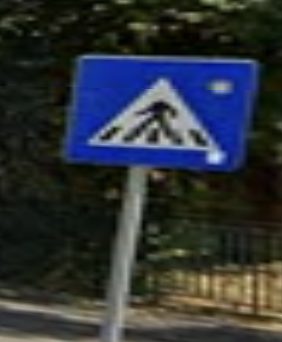trecere_pietoni: (60, 44, 264, 172)
